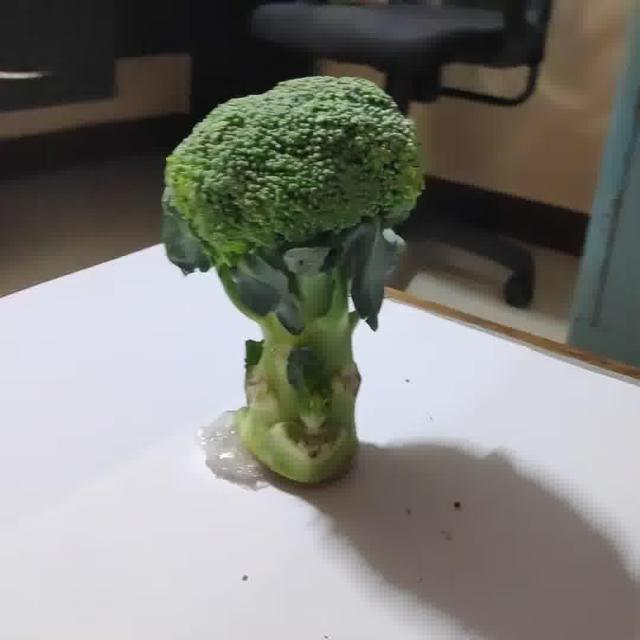Broccoli: (161, 76, 423, 485)
